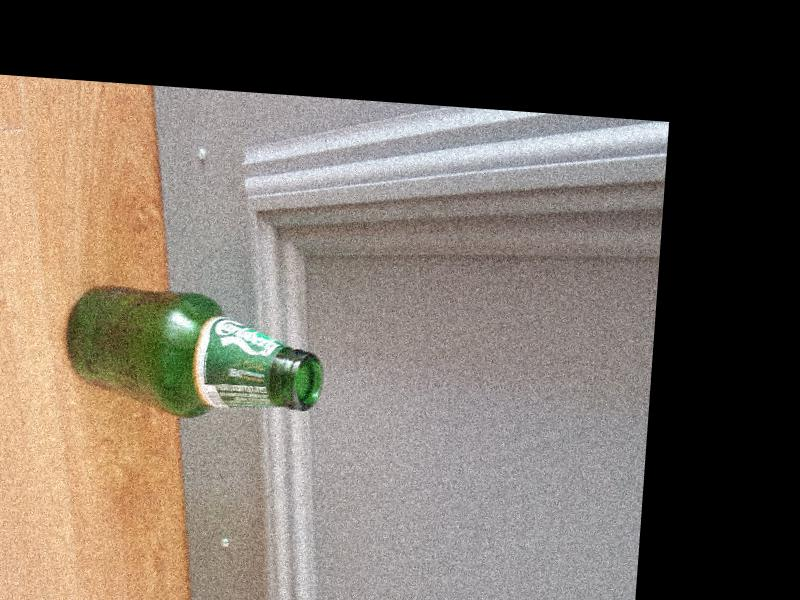Beer: (60, 281, 327, 427)
